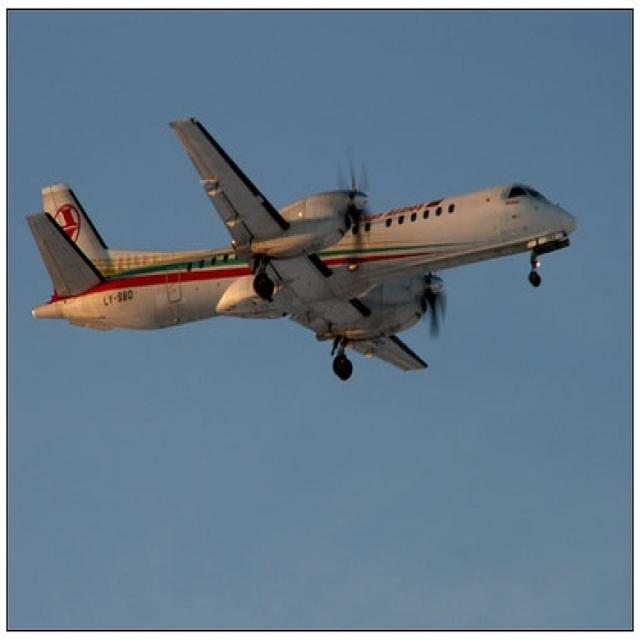aeroplane: (24, 114, 580, 385)
